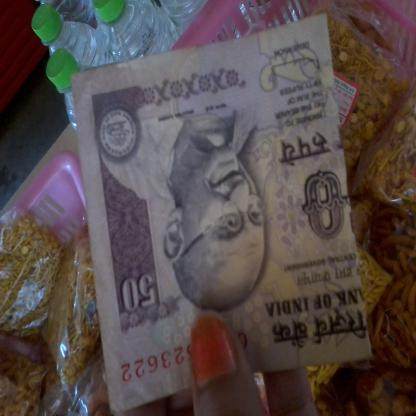Old50Front: (71, 12, 374, 416)
